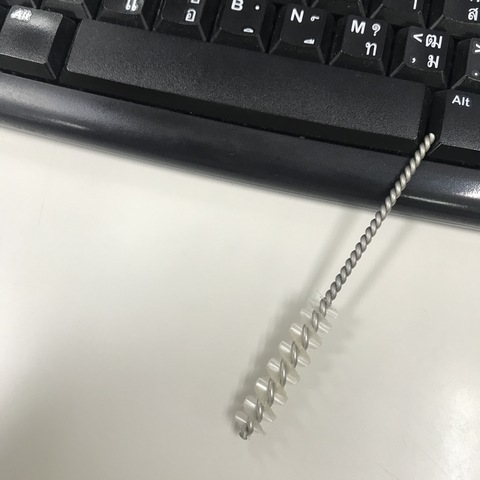Twist Brush-B: (237, 134, 439, 440)
